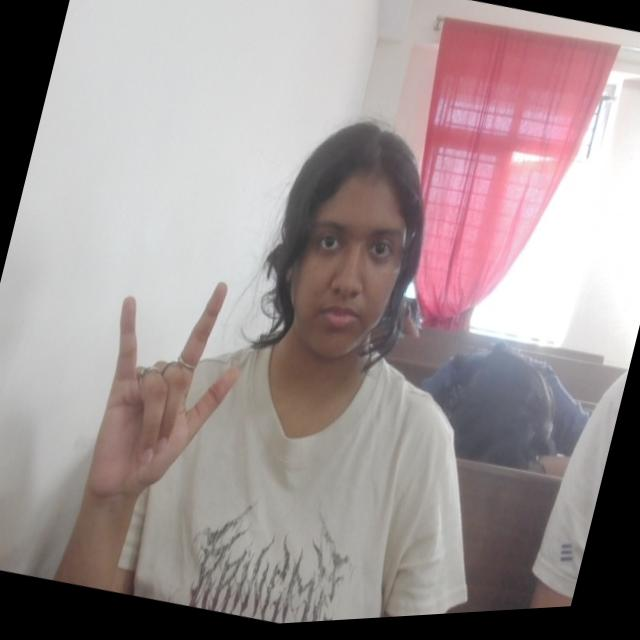iloveyou: (72, 255, 265, 522)
